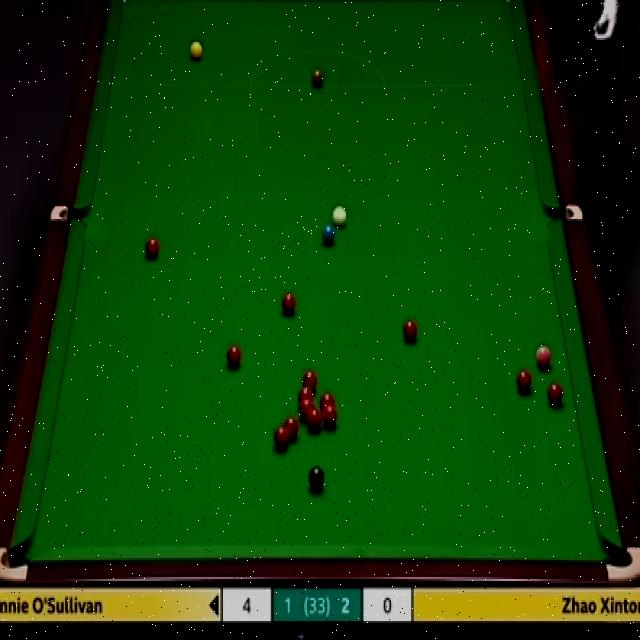black-ball: (307, 465, 325, 488)
blue-ball: (320, 223, 338, 246)
brown-ball: (310, 68, 323, 88)
pink-ball: (534, 345, 553, 369)
red-ball: (516, 366, 532, 394), (274, 424, 290, 450), (546, 381, 563, 405), (280, 291, 296, 316), (401, 318, 418, 341), (323, 403, 338, 428), (226, 343, 241, 366), (307, 408, 322, 431), (284, 416, 298, 440), (302, 369, 317, 391), (144, 238, 159, 260), (297, 386, 313, 405), (300, 399, 314, 420), (319, 391, 336, 407)
white-ball: (332, 206, 347, 230)
yellow-ball: (189, 41, 202, 63)
